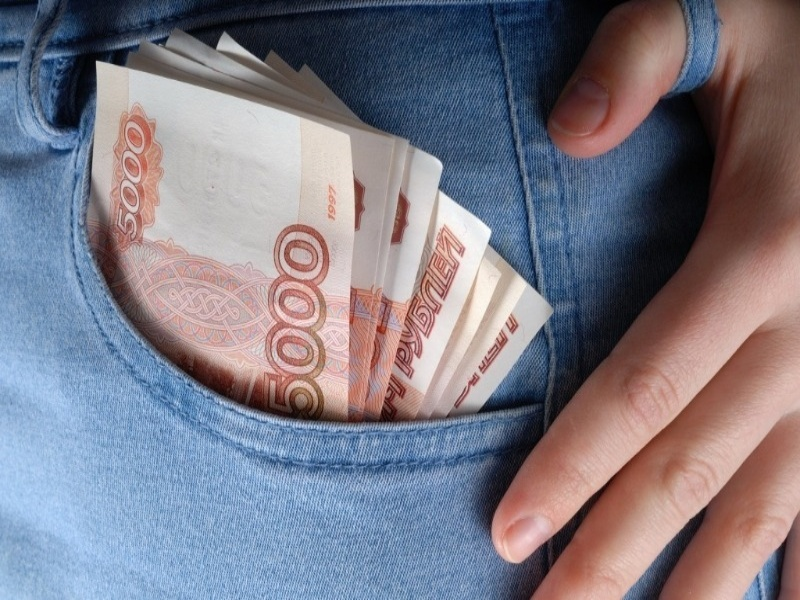cash: (87, 29, 553, 421)
